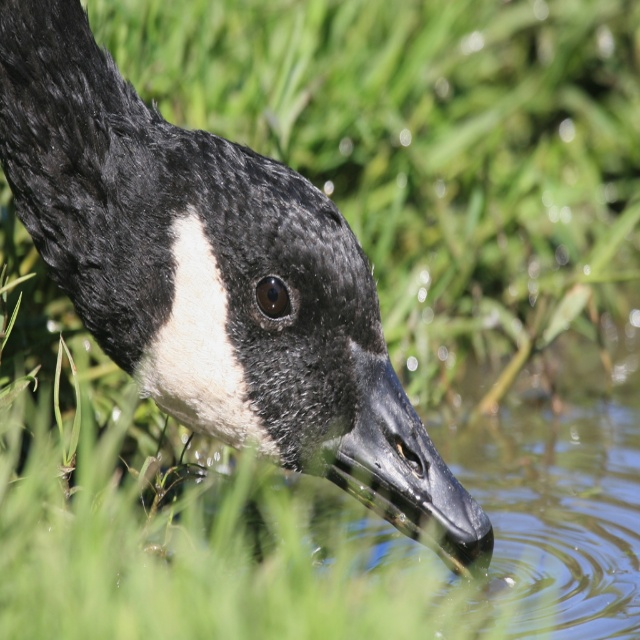Duck: (0, 0, 496, 575)
